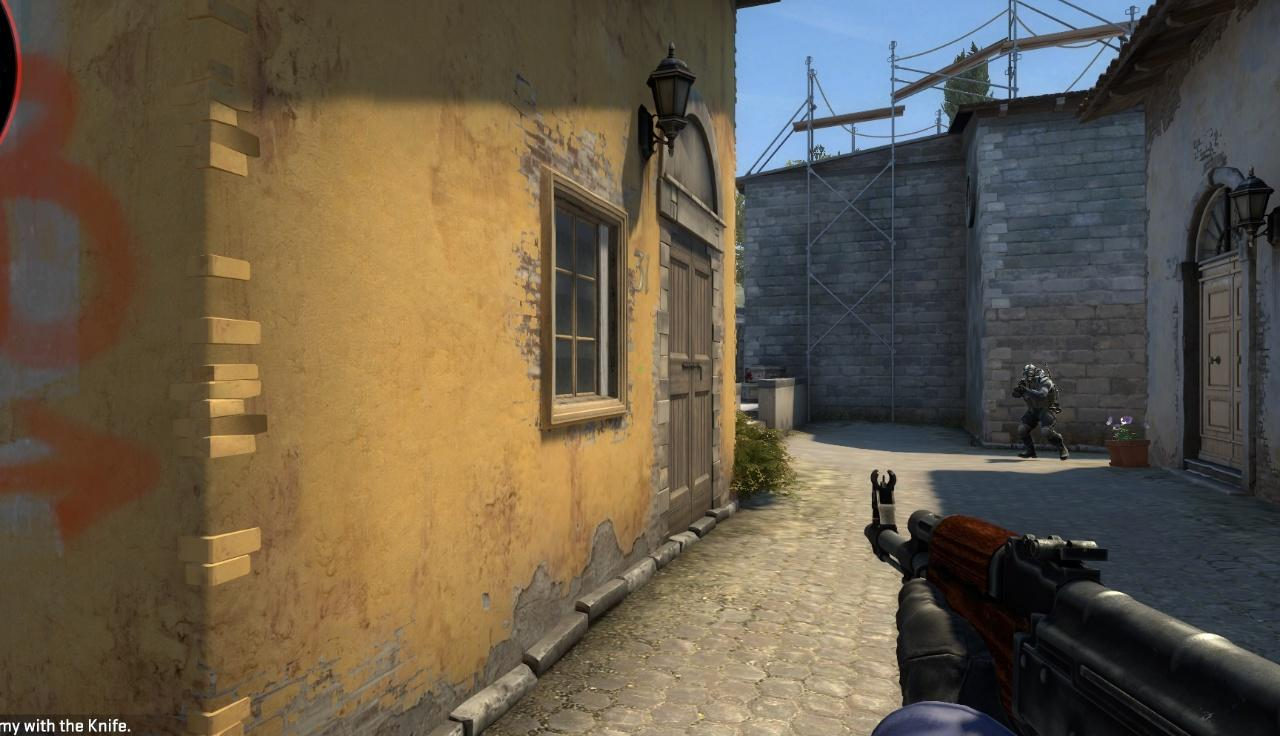ct: (1012, 362, 1070, 461)
cthead: (1022, 363, 1037, 382)
rifle: (853, 484, 1280, 734)
